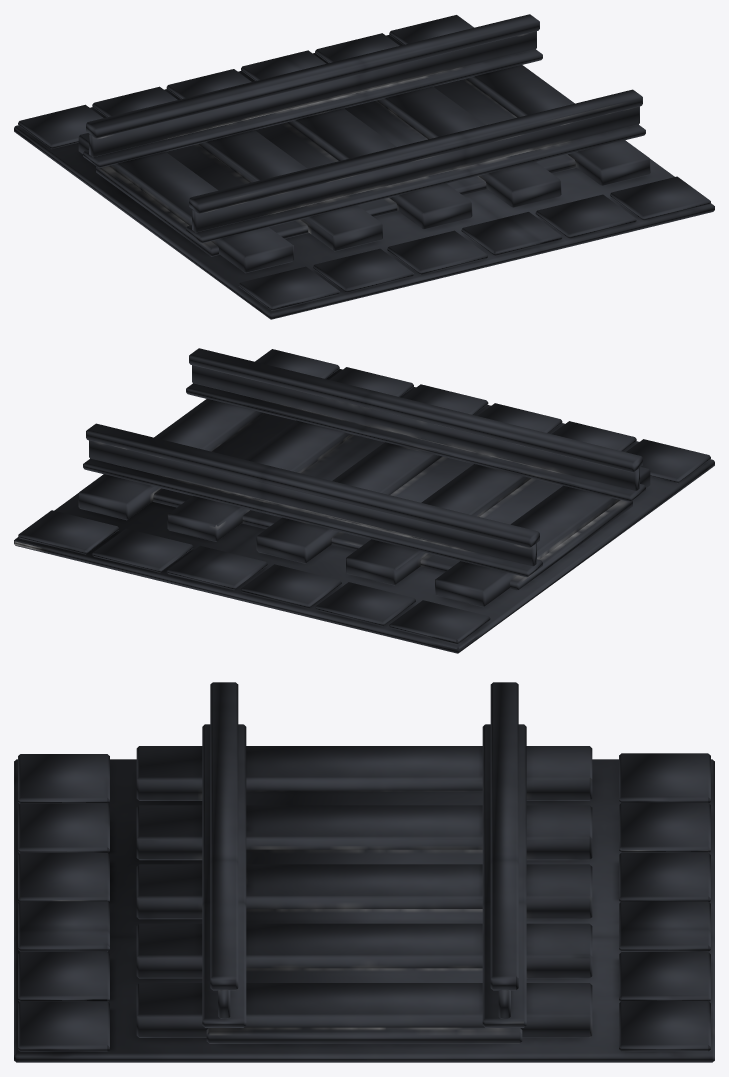
File: Calle_Vias.fbx
The picture shows the model from 3 angles, top to bottom: view 1: azimuth 30°, elevation 25°; view 2: azimuth 150°, elevation 25°; view 3: azimuth 270°, elevation 25°; orthographic projection. The views are drawn at different scales.
Visible parts, largest first — view 1: Calle_Vias; view 2: Calle_Vias; view 3: Calle_Vias.
Part boxes in pixels (left/top/right/bottom): Calle_Vias: left=14, top=14, right=714, bottom=319; Calle_Vias: left=14, top=348, right=714, bottom=653; Calle_Vias: left=14, top=682, right=714, bottom=1062.
Bounding box in the file's own units: 8 × 1.09 × 8.
